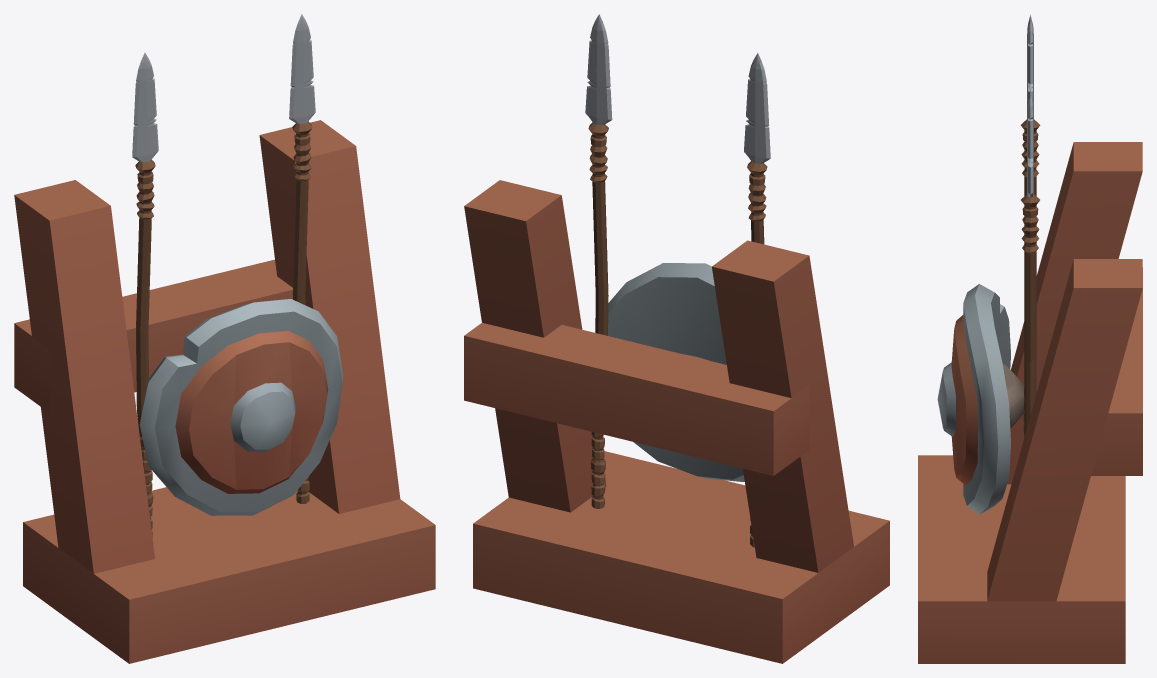
File: armero_k.glb
3 views of the same model, side by side, from view 1: azimuth 30°, elevation 25°; view 2: azimuth 150°, elevation 25°; view 3: azimuth 270°, elevation 25° (orthographic). The views are drawn at different scales.
Visible parts, largest first — view 1: weaponrack, shield_round, Spear_Cylinder.031, Spear_Cylinder.001; view 2: weaponrack, shield_round, Spear_Cylinder.001, Spear_Cylinder.031; view 3: weaponrack, shield_round, Spear_Cylinder.001, Spear_Cylinder.031.
Boxes of the visible parts, box(x1,y1,x2,y2) form: weaponrack: box(14, 120, 435, 663); shield_round: box(139, 299, 343, 515); Spear_Cylinder.031: box(132, 52, 158, 537); Spear_Cylinder.001: box(289, 14, 315, 503); weaponrack: box(464, 180, 889, 663); shield_round: box(608, 263, 744, 481); Spear_Cylinder.001: box(585, 14, 612, 508); Spear_Cylinder.031: box(744, 53, 770, 547); weaponrack: box(918, 142, 1142, 663); shield_round: box(937, 284, 1023, 514); Spear_Cylinder.001: box(1021, 89, 1039, 436); Spear_Cylinder.031: box(1020, 14, 1040, 432).
Size of the model in its own units: 1.25 by 2.15 by 0.8125.
Materials: 10 (2 with a texture image).
